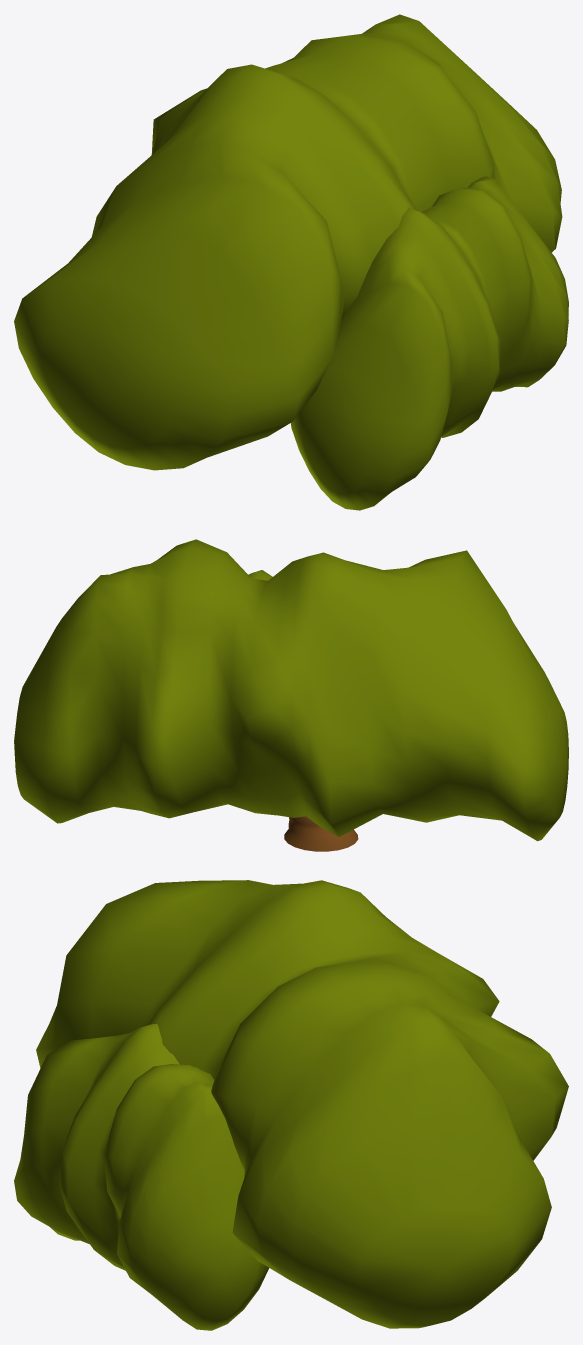
Rendered from Bush.fbx.
The picture shows the model from 3 angles, top to bottom: view 1: azimuth 30°, elevation 25°; view 2: azimuth 150°, elevation 25°; view 3: azimuth 270°, elevation 25°; orthographic projection. The views are drawn at different scales.
Visible parts, largest first — view 1: pCylinder40, pCylinder41; view 2: pCylinder40, pCylinder39; view 3: pCylinder40, pCylinder41.
Boxes of the visible parts, box(x1,y1,x2,y2) form: pCylinder40: box(14, 14, 562, 470); pCylinder41: box(290, 176, 568, 510); pCylinder40: box(14, 539, 568, 841); pCylinder39: box(284, 816, 358, 851); pCylinder40: box(36, 880, 568, 1328); pCylinder41: box(14, 1024, 268, 1330).
Size of the model in its own units: 1.49 by 0.9255 by 1.27.
